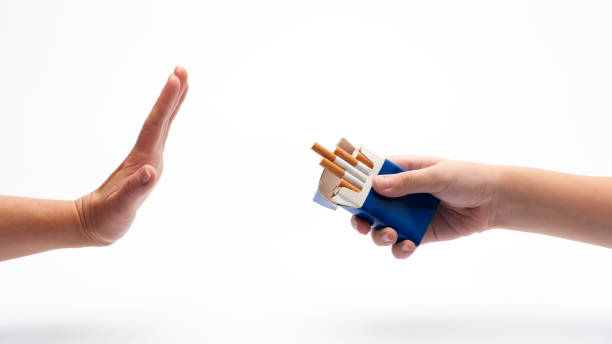cigarette: (307, 133, 441, 247), (310, 142, 369, 182), (318, 157, 365, 190), (332, 145, 373, 176), (352, 150, 377, 170), (336, 178, 361, 193)
